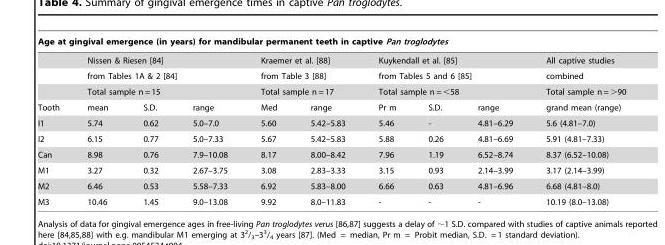table: (37, 36, 625, 206)
table column: (528, 36, 625, 206), (174, 36, 243, 206), (459, 36, 528, 206), (293, 36, 361, 206), (72, 36, 124, 206), (124, 36, 174, 206), (243, 36, 293, 206), (361, 36, 411, 206), (411, 36, 459, 206), (37, 36, 72, 206)
table column header: (37, 36, 625, 50)
table row: (37, 50, 625, 67), (37, 67, 625, 83), (37, 83, 625, 99), (37, 99, 625, 115), (37, 130, 625, 146), (37, 146, 625, 162), (37, 162, 625, 178), (37, 115, 625, 130), (37, 178, 625, 193), (37, 36, 625, 50), (37, 193, 625, 206)
table spanning cell: (37, 36, 625, 50), (72, 50, 243, 67), (361, 50, 528, 67), (72, 67, 243, 83), (72, 83, 243, 99), (361, 67, 528, 83), (361, 83, 528, 99), (243, 50, 361, 67), (243, 67, 361, 83), (243, 83, 361, 99)
